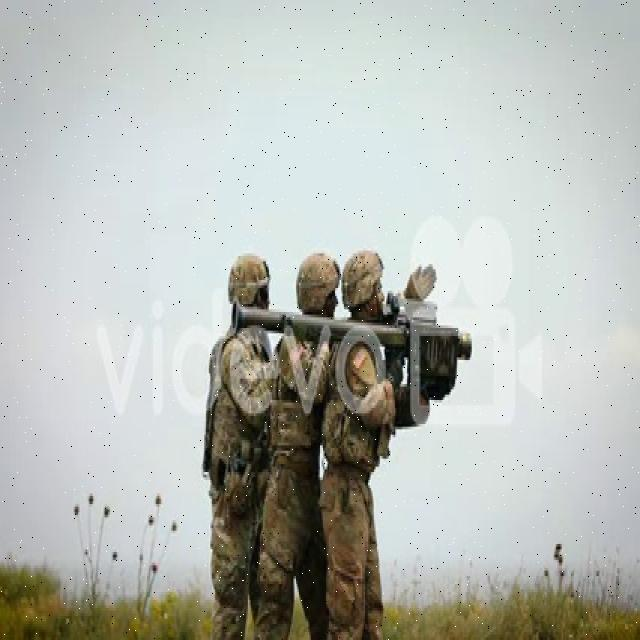bazooka: (229, 299, 475, 427)
